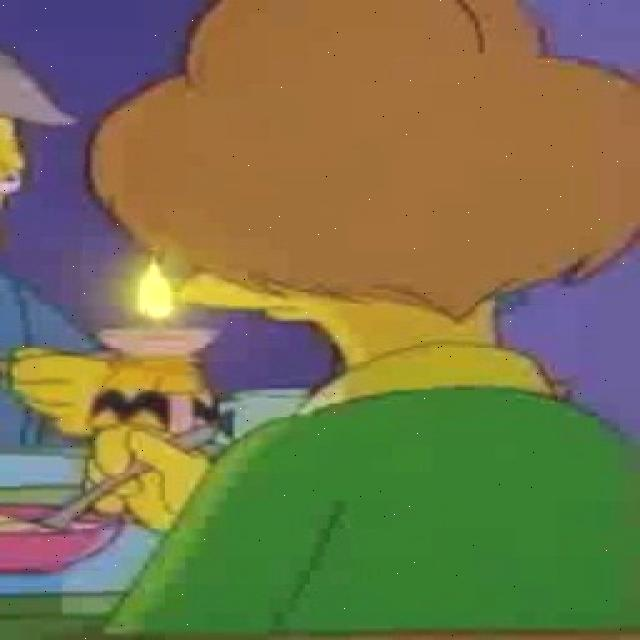Edna Krappel: (77, 0, 640, 415)
